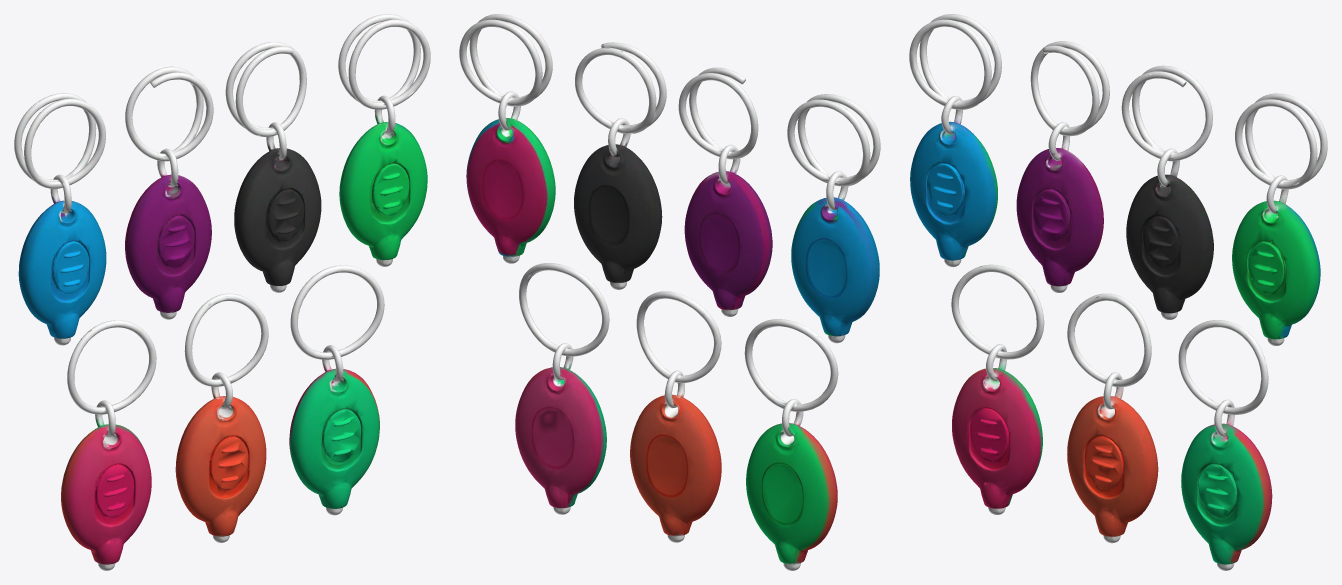
File: flashlight.glb
The picture shows the model from 3 angles, left to right: view 1: azimuth 30°, elevation 25°; view 2: azimuth 150°, elevation 25°; view 3: azimuth 330°, elevation 25°; orthographic projection.
Parts seen in each view (by area): view 1: node_0; view 2: node_0; view 3: node_0.
Boxes of the visible parts, x1,y1,x2,y2 form: node_0: (14,14,430,570); node_0: (459,14,880,570); node_0: (909,14,1327,570).
Bounding box in the file's own units: 0.8398 × 0.9478 × 0.074.
Materials: 1 (1 with a texture image).
